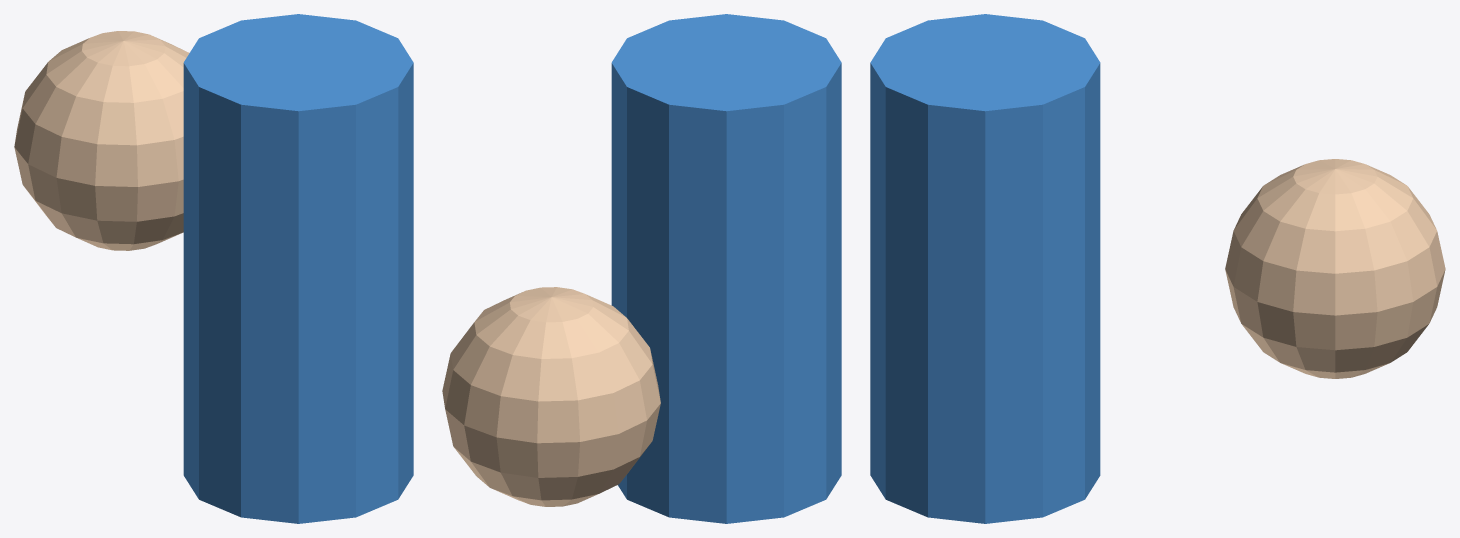
Rendered from employee.glb.
3 views of the same model, side by side, from view 1: azimuth 30°, elevation 25°; view 2: azimuth 150°, elevation 25°; view 3: azimuth 270°, elevation 25° (orthographic).
Parts seen in each view (by area): view 1: body, head; view 2: body, head; view 3: body, head.
Boxes of the visible parts, x1=… form: body: x1=183, y1=14, x2=413, y2=523; head: x1=14, y1=31, x2=189, y2=250; body: x1=611, y1=14, x2=841, y2=523; head: x1=442, y1=287, x2=660, y2=506; body: x1=870, y1=14, x2=1100, y2=523; head: x1=1225, y1=159, x2=1445, y2=378.
Size of the model in its own units: 0.48 by 0.95 by 1.2.
